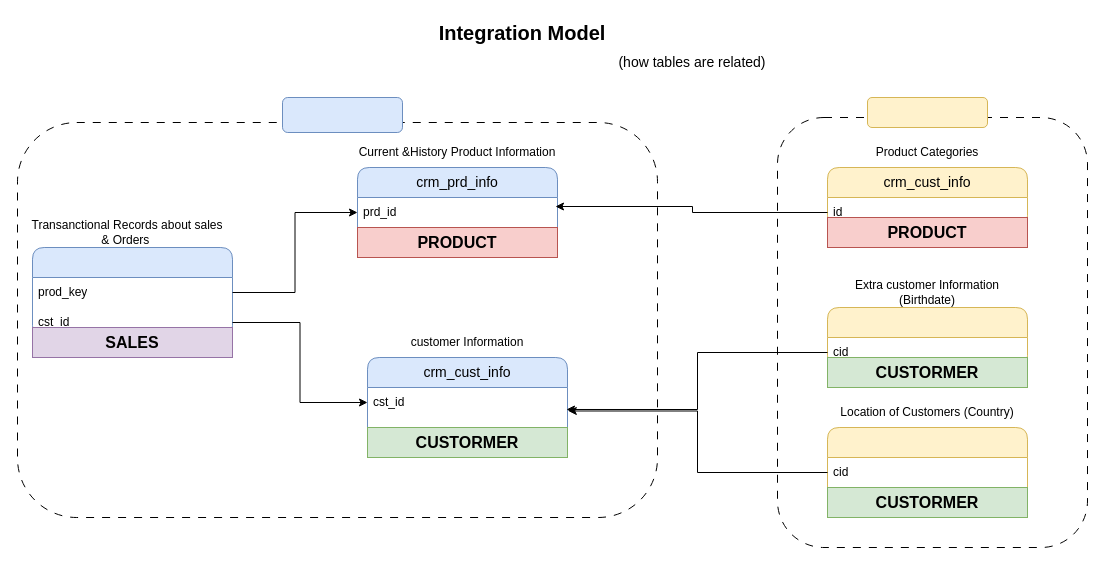
Image size: 1105x565. Some labels were removed from this diagram. Each missing label, with the box of its shape:
CRM: (282, 96, 402, 132)
crm_sales_details: (32, 246, 232, 338)
ERP: (866, 96, 988, 128)
erp_cust_az12: (826, 306, 1028, 368)
erp_loc: (826, 426, 1028, 518)
